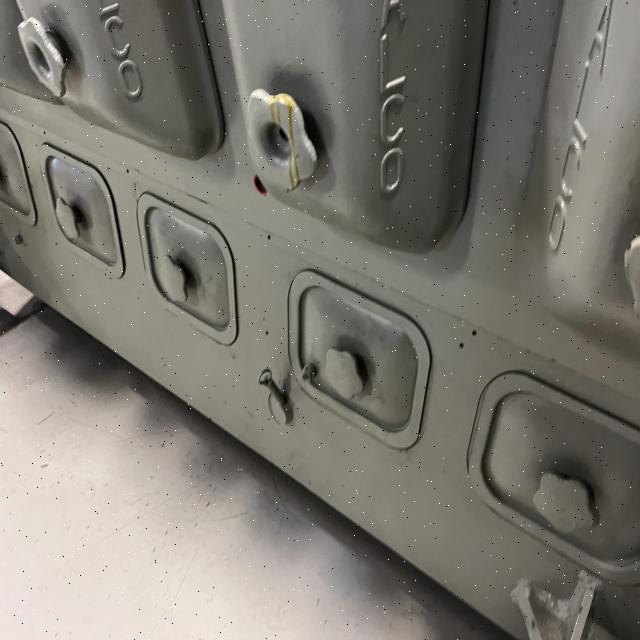Oil Leak: (268, 91, 314, 191)
